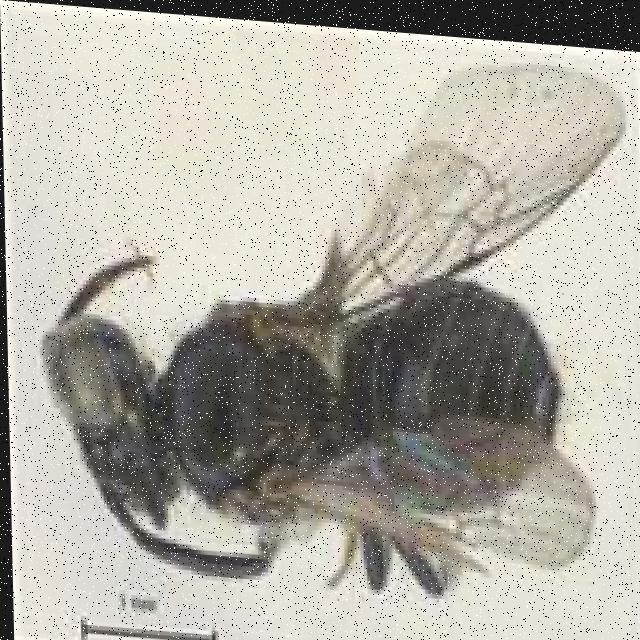Braunsapis: (30, 82, 616, 632)
